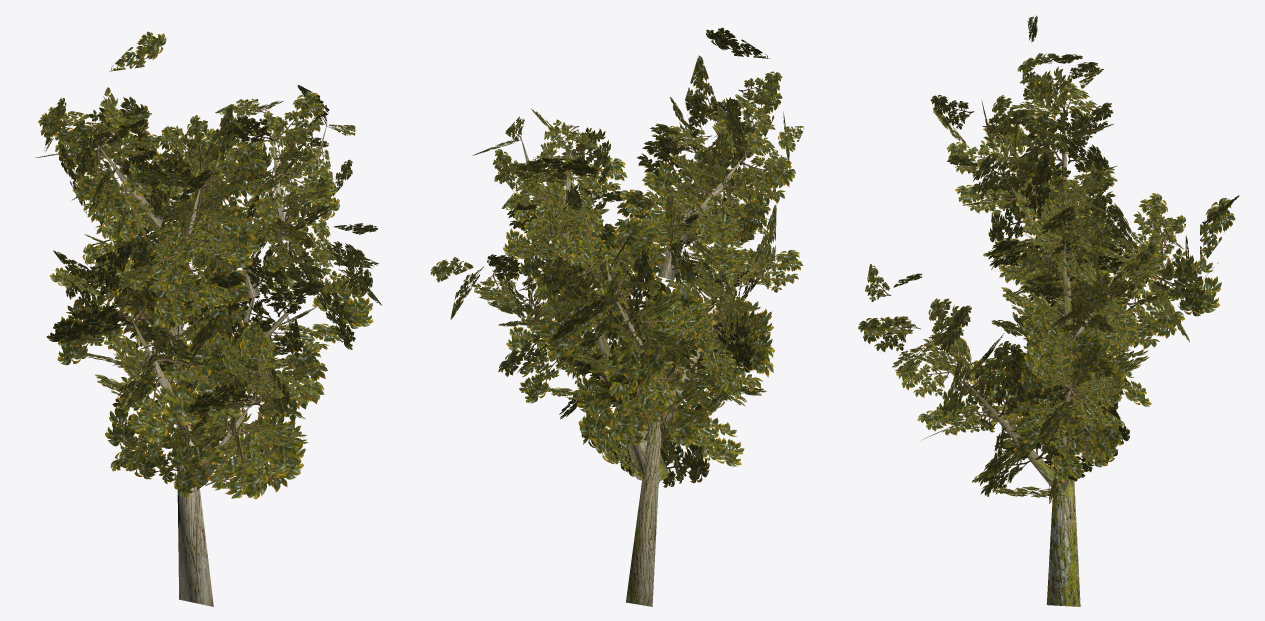
The model's file is Tree2Lod3.fbx.
3 views of the same model, side by side, from view 1: azimuth 30°, elevation 25°; view 2: azimuth 150°, elevation 25°; view 3: azimuth 270°, elevation 25° (orthographic). The views are drawn at different scales.
Parts seen in each view (by area): view 1: Tree2Lod3; view 2: Tree2Lod3; view 3: Tree2Lod3.
Part boxes in pixels (bbox=[...]): Tree2Lod3: bbox=[36, 31, 381, 606]; Tree2Lod3: bbox=[430, 27, 804, 606]; Tree2Lod3: bbox=[858, 15, 1239, 606].
Bounding box in the file's own units: 923 × 1418 × 915.
